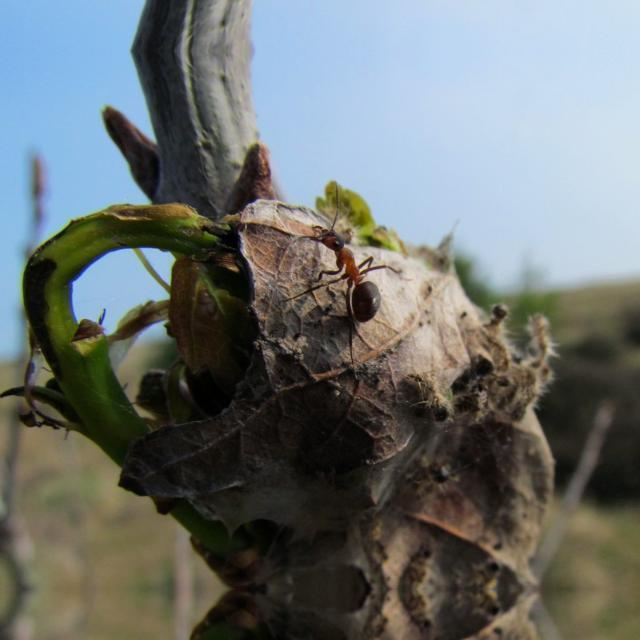Formica: (311, 218, 399, 326)
